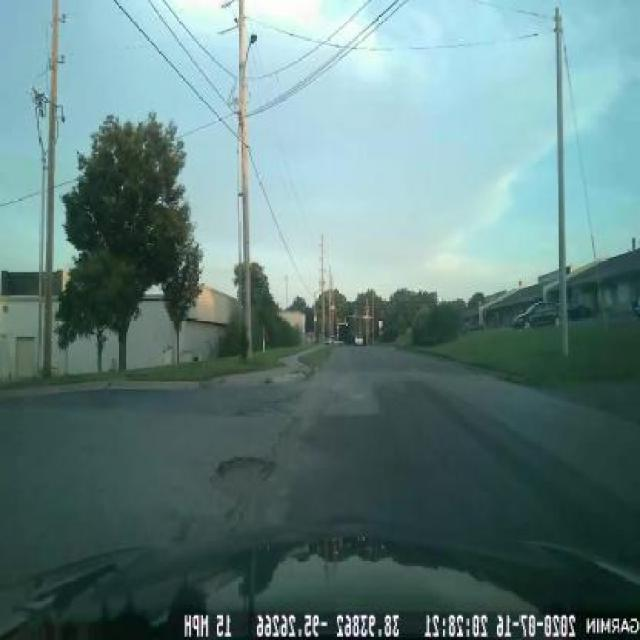pothole: (209, 448, 277, 510)
